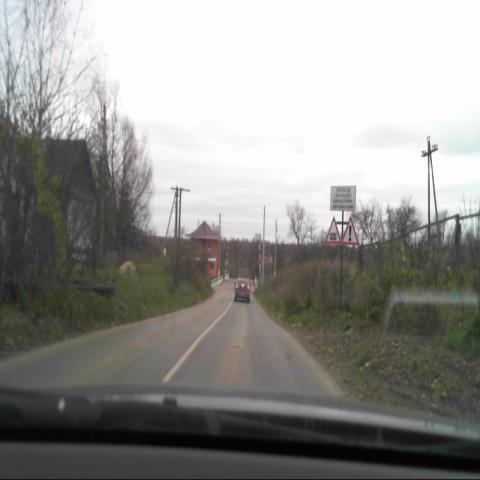1_1: (327, 216, 340, 243)
1_33: (342, 217, 359, 244)
